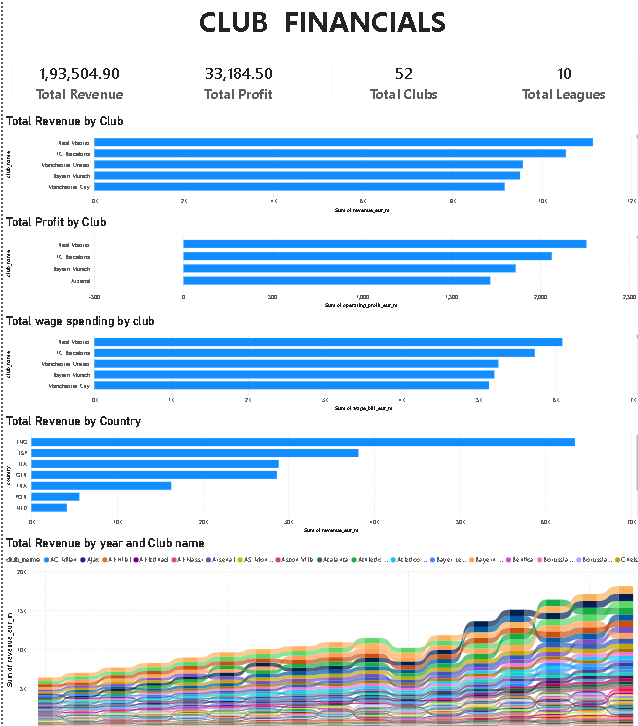

What the dashboard file says about the page in this screenshot:
{"tool":"powerbi","page":{"name":"Club Financials","canvas":[1280,1500],"ordinal":1},"visuals":[{"type":"cardVisual","fields":{"Data":["club_financials.Total Clubs"]},"box":[640,100,321.7,126.7],"z":0},{"type":"cardVisual","fields":{"Data":["club_financials.Total_leagues"]},"box":[961.7,100,318.3,126.7],"z":1000},{"type":"clusteredBarChart","title":"Total Revenue by Club","fields":{"Category":["club_financials.club_name"],"Y":["Sum(club_financials.revenue_eur_m)"]},"box":[0,226.7,1280,203.3],"z":2000},{"type":"clusteredBarChart","title":"Total Profit by Club","fields":{"Category":["club_financials.club_name"],"Y":["Sum(club_financials.operating_profit_eur_m)"]},"box":[0,430,1280,191.7],"z":3000},{"type":"clusteredBarChart","title":"Total wage spending by club","fields":{"Category":["club_financials.club_name"],"Y":["Sum(club_financials.wage_bill_eur_m)"]},"box":[0,628.3,1280,200],"z":4000},{"type":"ribbonChart","title":"Total Revenue by year and Club name","fields":{"Category":["club_financials.year"],"Y":["Sum(club_financials.revenue_eur_m)"],"Series":["club_financials.club_name"]},"box":[0,1073.3,1280,426.7],"z":5000},{"type":"textbox","box":[0,0,1280,86.7],"z":7000},{"type":"cardVisual","fields":{"Data":["club_financials.Total Revenue"]},"box":[0,100,303.3,126.7],"z":8000},{"type":"cardVisual","fields":{"Data":["club_financials.Total Profit"]},"box":[303.3,100,336.7,126.7],"z":9000},{"type":"clusteredBarChart","title":"Total Revenue by Country","fields":{"Category":["club_financials.country"],"Y":["Sum(club_financials.revenue_eur_m)"]},"box":[0,828.3,1280,245],"z":10000}]}

Visuals, with their boxes in screenshot pixels (x1, y1, x2, y2), scaled from the page's 1280x1500 canvas onto the 638x726 screenshot:
cardVisual - club_financials.Total Clubs: [319, 48, 479, 110]
cardVisual - club_financials.Total_leagues: [479, 48, 637, 110]
"Total Revenue by Club" clusteredBarChart: [0, 110, 637, 208]
"Total Profit by Club" clusteredBarChart: [0, 208, 637, 301]
"Total wage spending by club" clusteredBarChart: [0, 304, 637, 401]
"Total Revenue by year and Club name" ribbonChart: [0, 519, 637, 725]
textbox: [0, 0, 637, 42]
cardVisual - club_financials.Total Revenue: [0, 48, 151, 110]
cardVisual - club_financials.Total Profit: [151, 48, 319, 110]
"Total Revenue by Country" clusteredBarChart: [0, 401, 637, 519]
